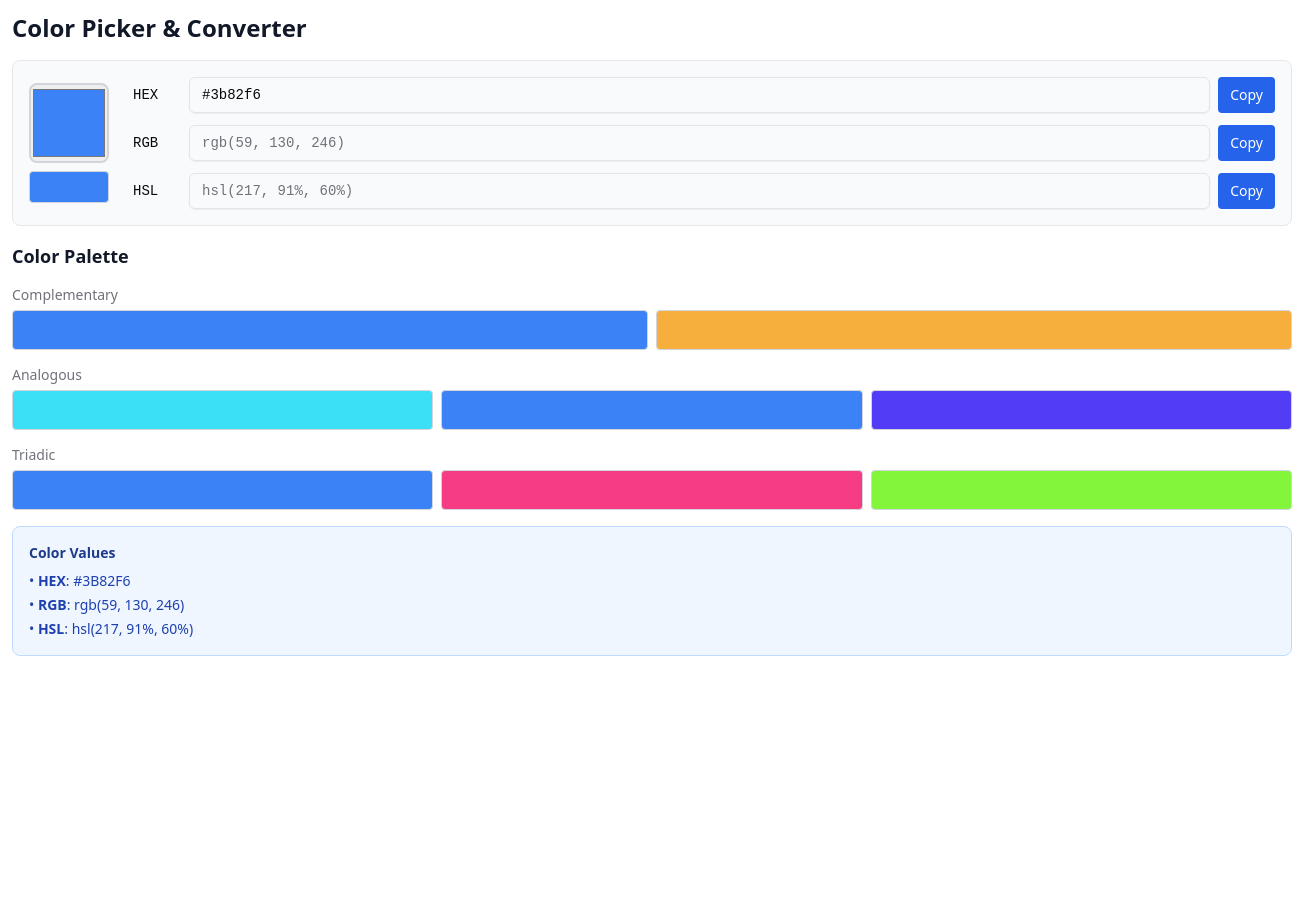
Scenario: ColorPicker › HEX Input › should update RGB when HEX input changes to valid value
Type "#ff0000" into the field with test id "hex-input" at (700, 95), box [189,77,1210,113]
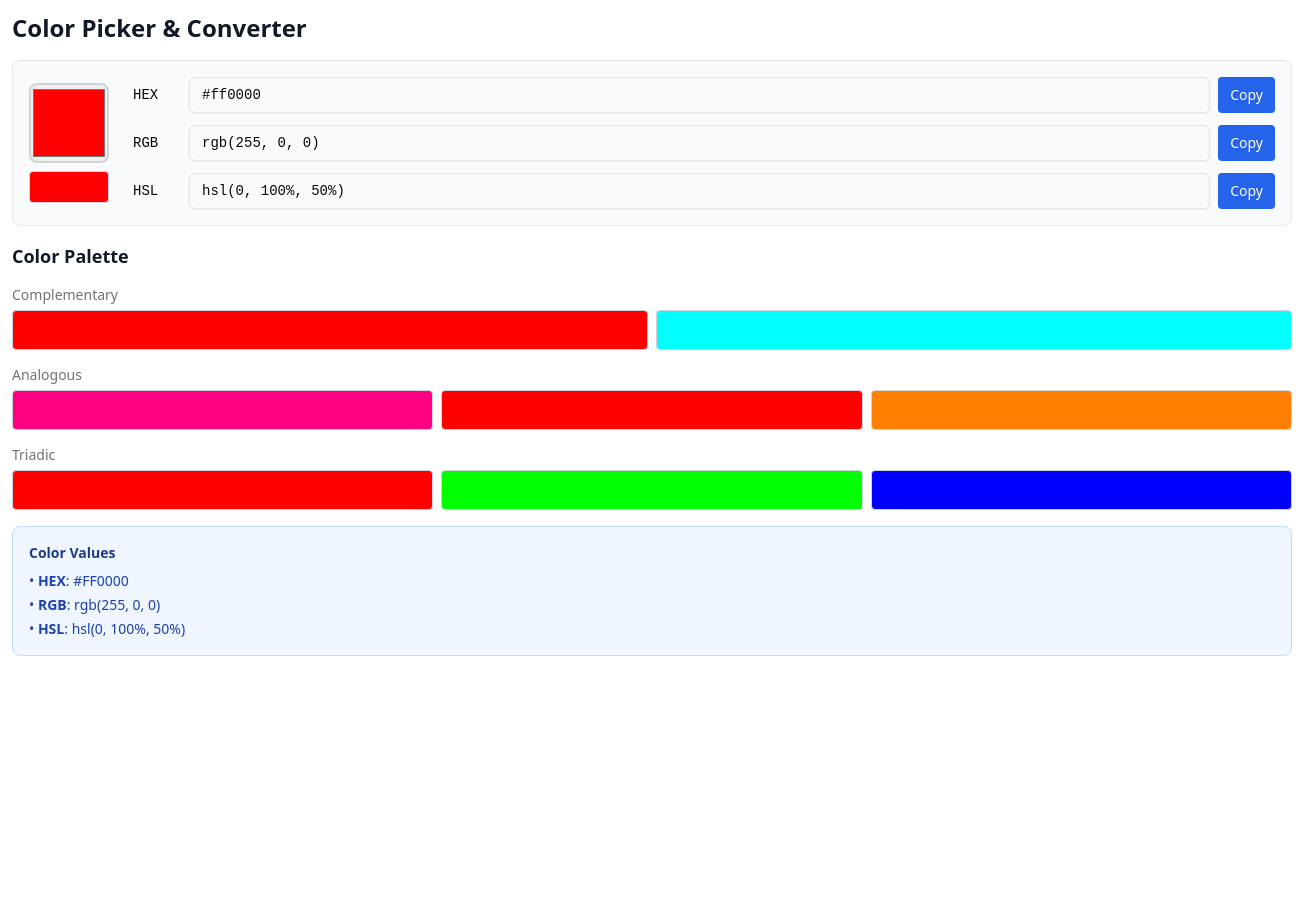
Check: the field with test id "rgb-input" holds "rgb(255, 0, 0)", box [189,125,1210,161]
